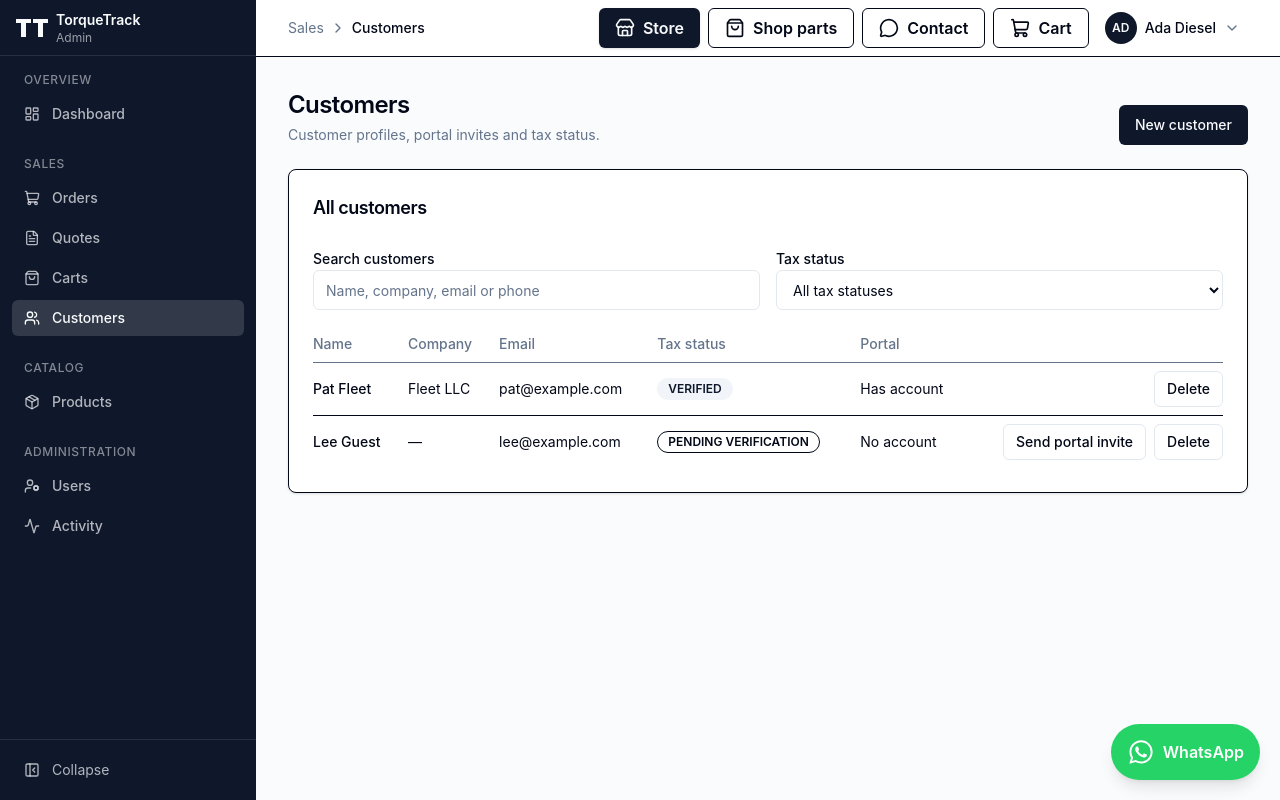
Test case: CustomersPage › sends a portal invite and shows the activation link
Expected: the text "lee@example.com" is shown, [499,416,657,468]
Click the button "Send portal invite" at (1074, 442), box [1003,424,1146,460]
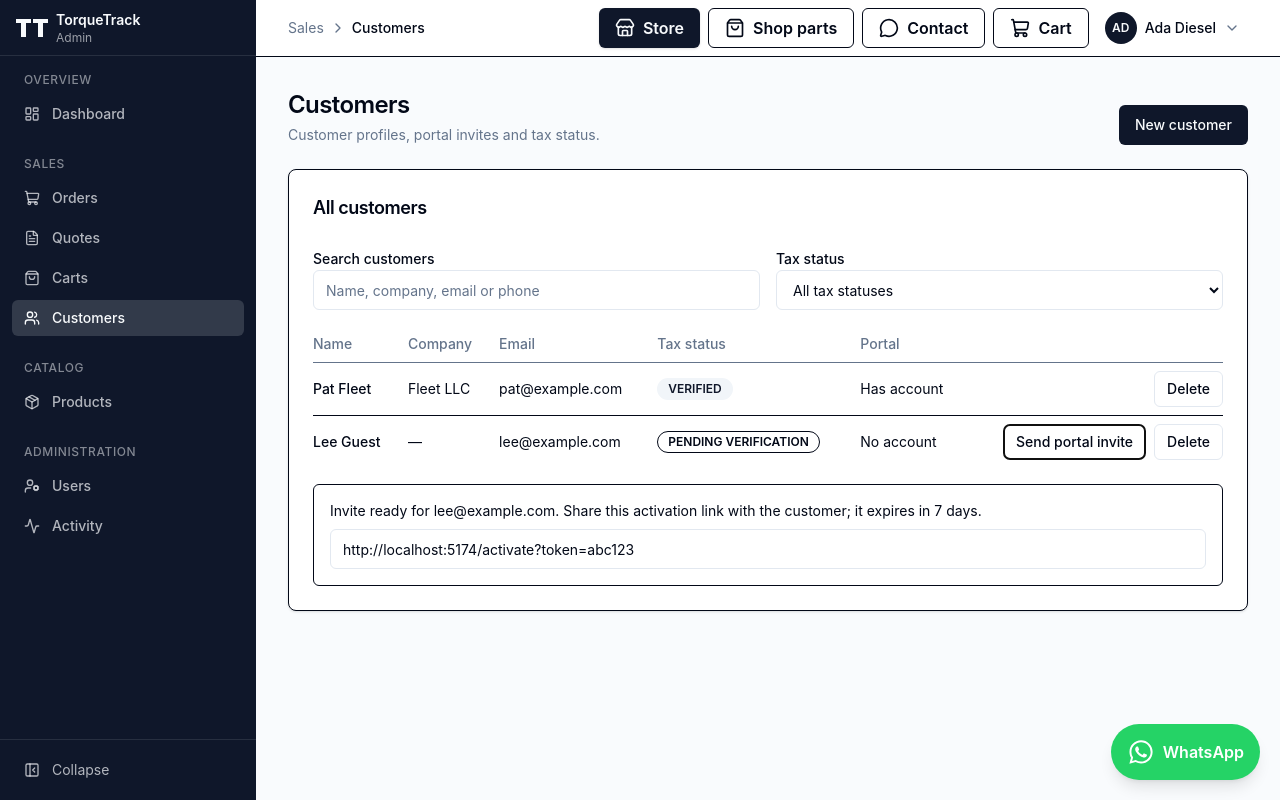
Expected: the field named "Activation link for lee@example.com" holds "http://localhost:5174/activate?token=abc123", [330,529,1206,569]
